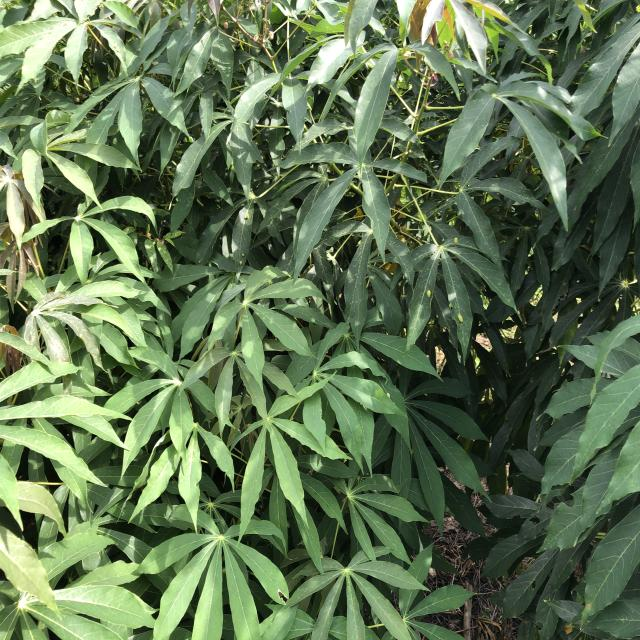Mosca: (421, 285, 434, 306), (456, 307, 468, 328), (236, 243, 245, 269), (307, 318, 320, 331), (452, 234, 462, 249), (240, 210, 251, 221)
